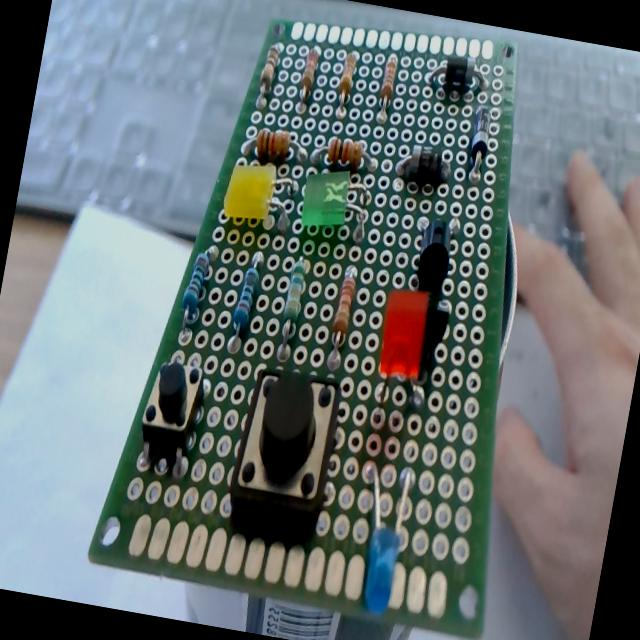diode: (424, 48, 489, 104), (391, 140, 454, 193), (464, 101, 496, 182)
led: (341, 454, 417, 616), (372, 281, 434, 385), (220, 152, 298, 234), (297, 164, 353, 235)
resistor: (224, 244, 267, 356), (274, 253, 310, 359), (175, 244, 215, 338), (324, 264, 359, 369), (240, 124, 308, 169), (310, 132, 376, 176), (332, 49, 359, 118), (254, 42, 281, 108), (375, 52, 400, 121), (297, 47, 320, 103)
switch: (224, 362, 347, 536), (133, 352, 210, 477)
transistor: (411, 214, 456, 296)
